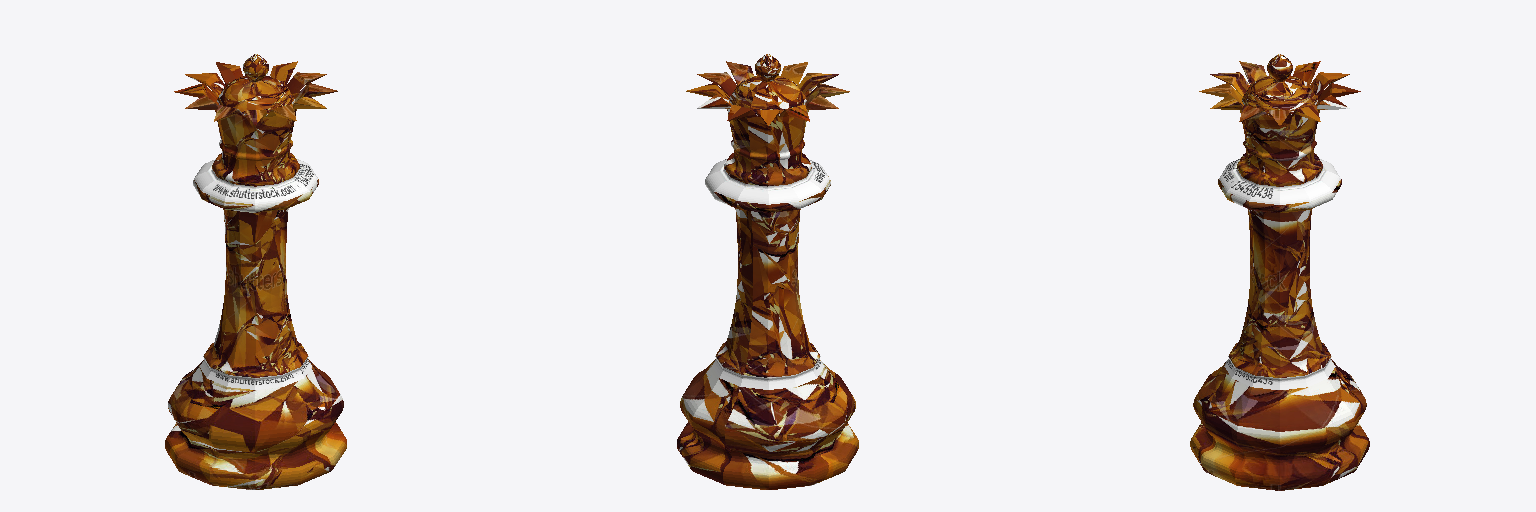
3 renders of one model, left to right at view 1: azimuth 30°, elevation 25°; view 2: azimuth 150°, elevation 25°; view 3: azimuth 270°, elevation 25°, orthographic.
Visible parts, largest first — view 1: mesh002; view 2: mesh002; view 3: mesh002.
Part boxes in pixels (bbox=[...]): mesh002: bbox=[165, 54, 346, 489]; mesh002: bbox=[677, 54, 858, 489]; mesh002: bbox=[1190, 54, 1369, 490].
Bounding box in the file's own units: 5.52 × 13.29 × 5.4.
1 materials, 1 textured.